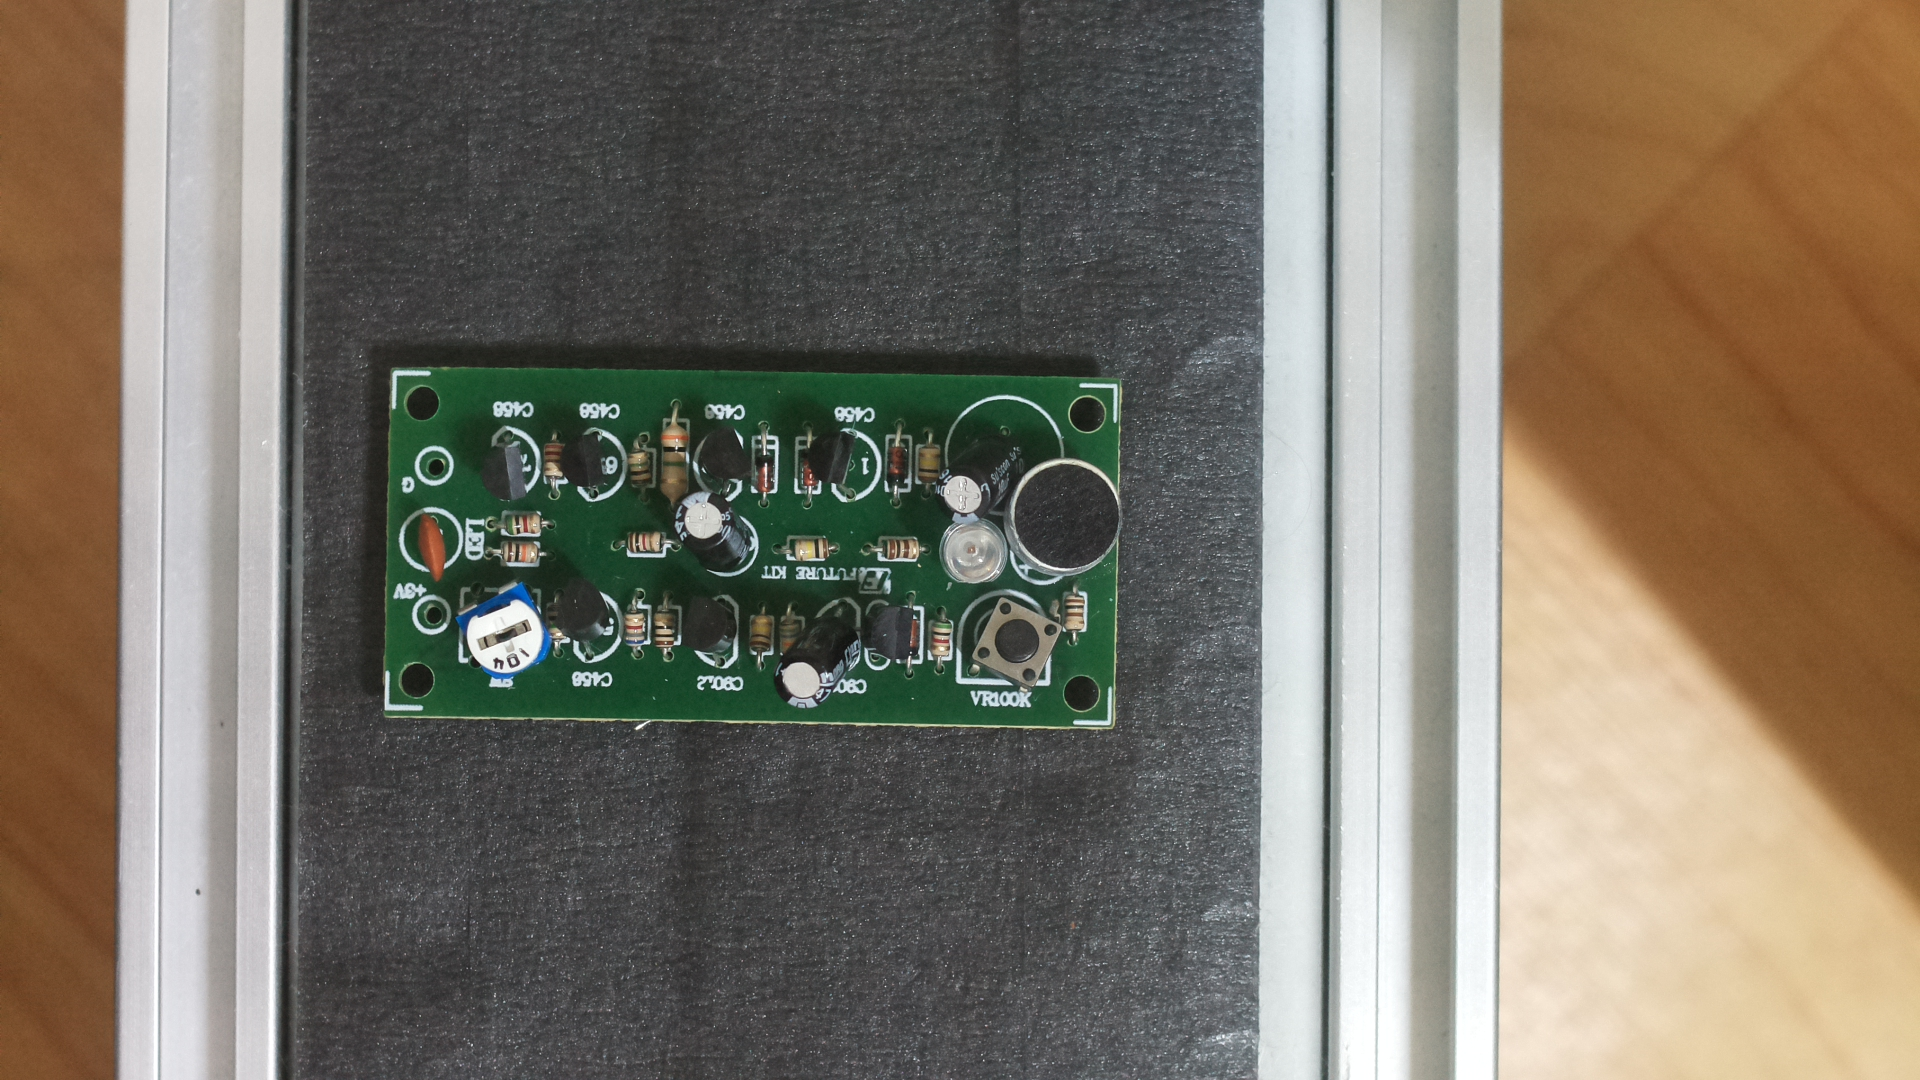A_Misordered: (363, 347, 1137, 756)
